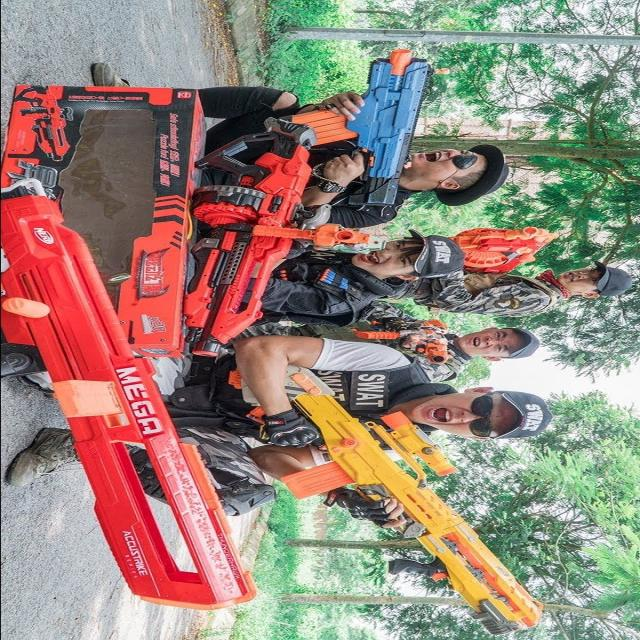Nerf gun: (1, 180, 251, 611), (224, 358, 549, 640), (176, 110, 318, 358), (281, 44, 459, 215), (446, 222, 568, 279), (352, 315, 460, 369), (244, 217, 396, 255)
